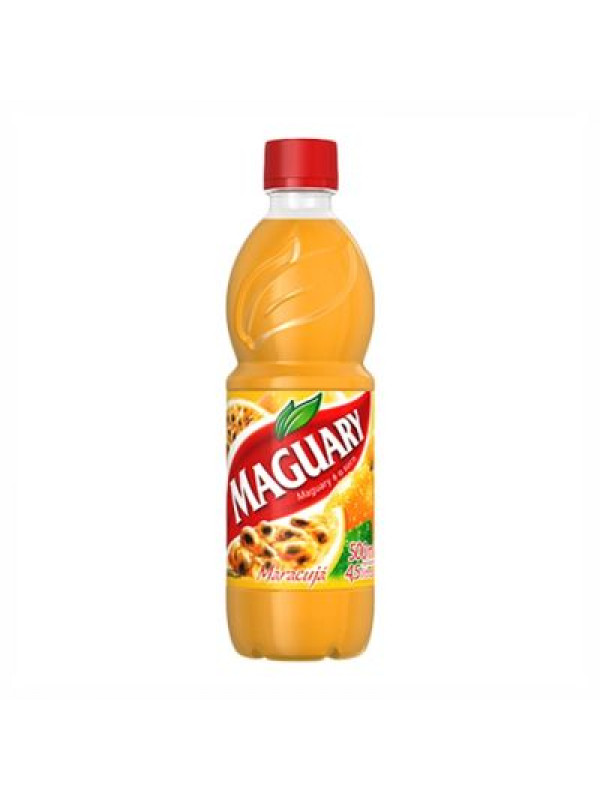maguary: (212, 123, 394, 667)
